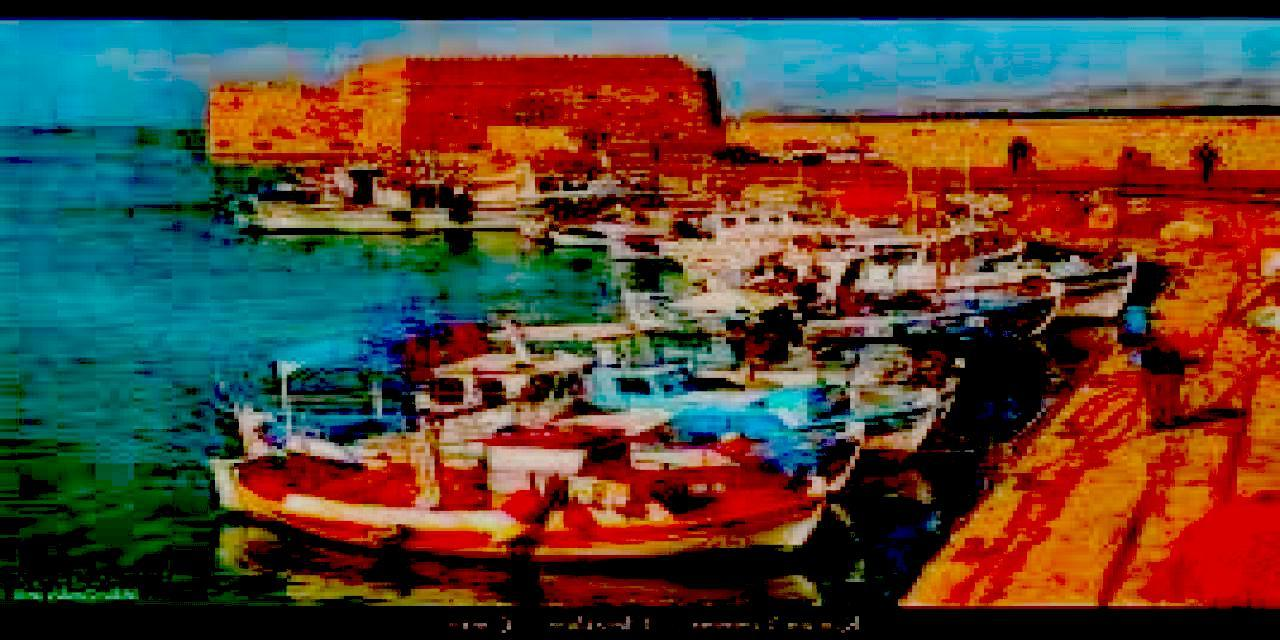Kules: (208, 56, 725, 163)
